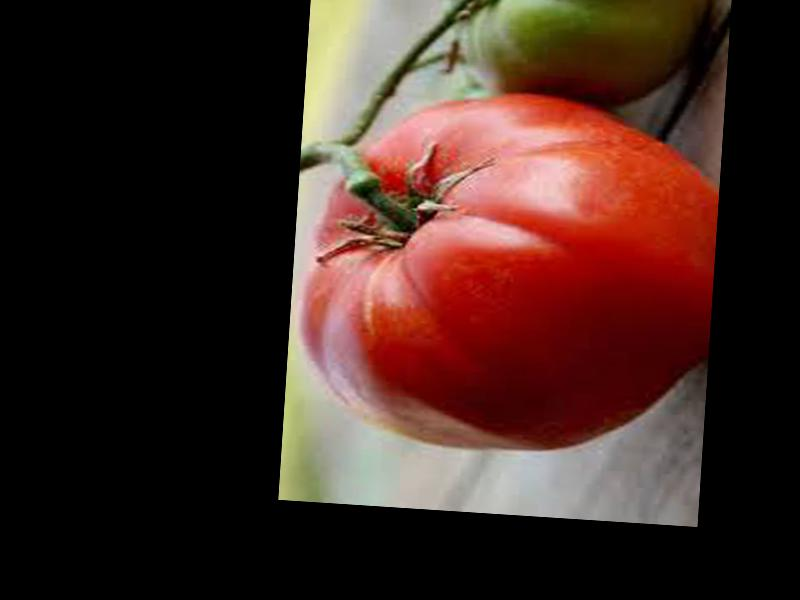Tomato: (290, 82, 724, 465)
